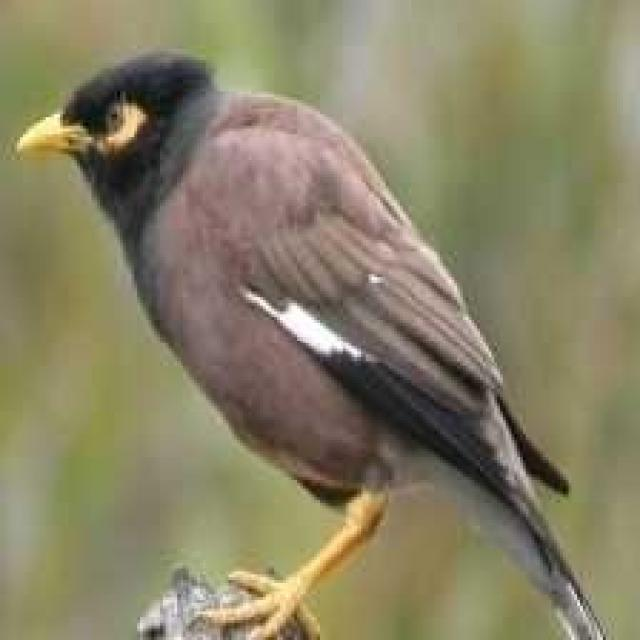bird: (12, 31, 618, 640)
